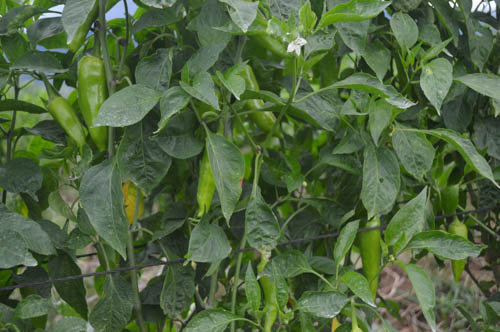ChiliPepper: (229, 68, 284, 138), (73, 58, 112, 151), (250, 259, 282, 326), (357, 218, 380, 298), (196, 138, 215, 219), (49, 101, 82, 146), (445, 222, 468, 276)
